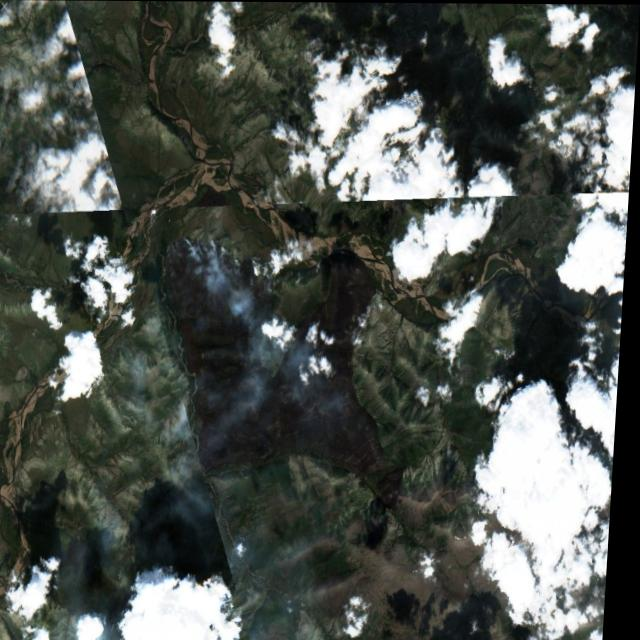fire: (156, 207, 287, 303)
